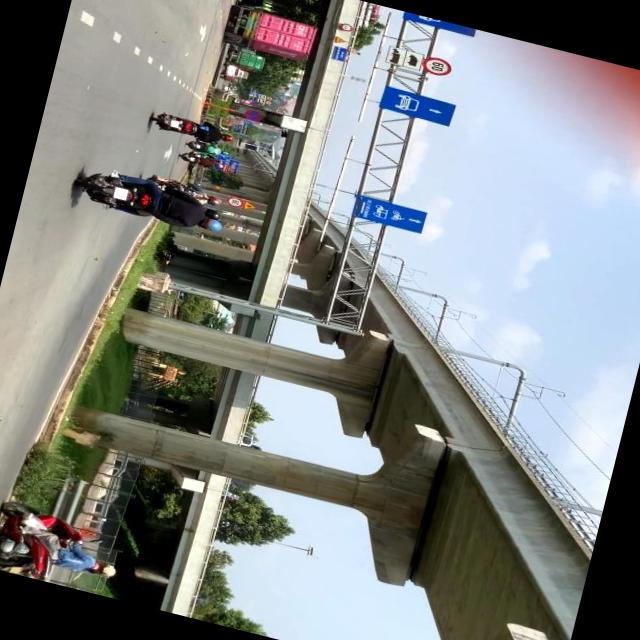P-127: (418, 53, 452, 78)
